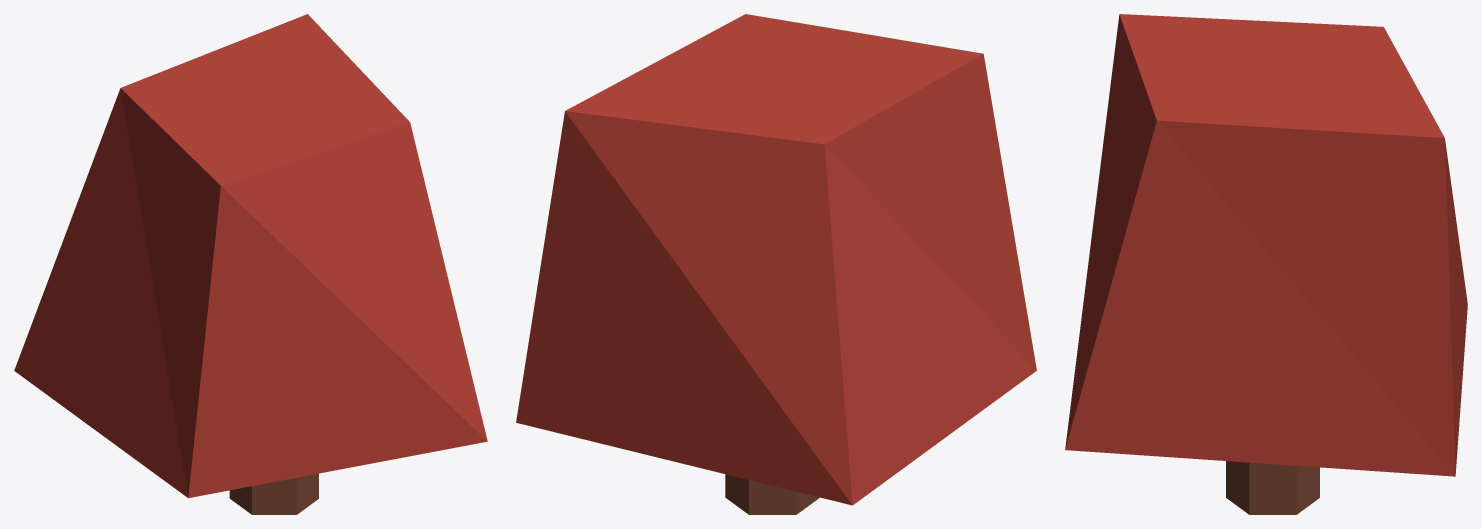
Rendered from Bush_11_summer_red_vc.fbx.
3 views of the same model, side by side, from view 1: azimuth 30°, elevation 25°; view 2: azimuth 150°, elevation 25°; view 3: azimuth 270°, elevation 25° (orthographic). The views are drawn at different scales.
Visible parts, largest first — view 1: Bush_11_summer_red_vc; view 2: Bush_11_summer_red_vc; view 3: Bush_11_summer_red_vc.
Part boxes in pixels (<box>): Bush_11_summer_red_vc: <box>14,14,487,514</box>; Bush_11_summer_red_vc: <box>516,14,1036,514</box>; Bush_11_summer_red_vc: <box>1065,14,1467,514</box>.
Bounding box in the file's own units: 50.88 × 59.59 × 51.95.
